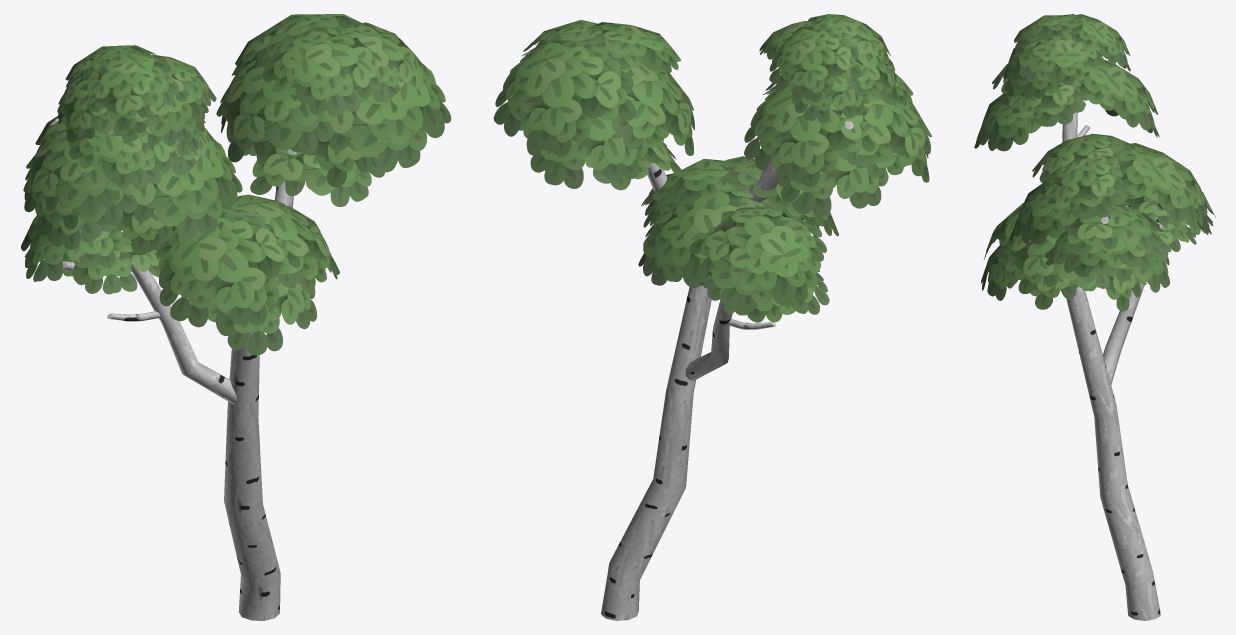
Rendered from birch_5.glb.
3 renders of one model, left to right at view 1: azimuth 30°, elevation 25°; view 2: azimuth 150°, elevation 25°; view 3: azimuth 270°, elevation 25°, orthographic. The views are drawn at different scales.
Visible parts, largest first — view 1: Birch_5; view 2: Birch_5; view 3: Birch_5.
Boxes of the visible parts, x1,y1,x2,y2 form: Birch_5: [21, 14, 451, 620]; Birch_5: [493, 14, 932, 620]; Birch_5: [974, 14, 1215, 620].
Bounding box in the file's own units: 6.35 × 9.08 × 3.93.
2 materials, 2 textured.
